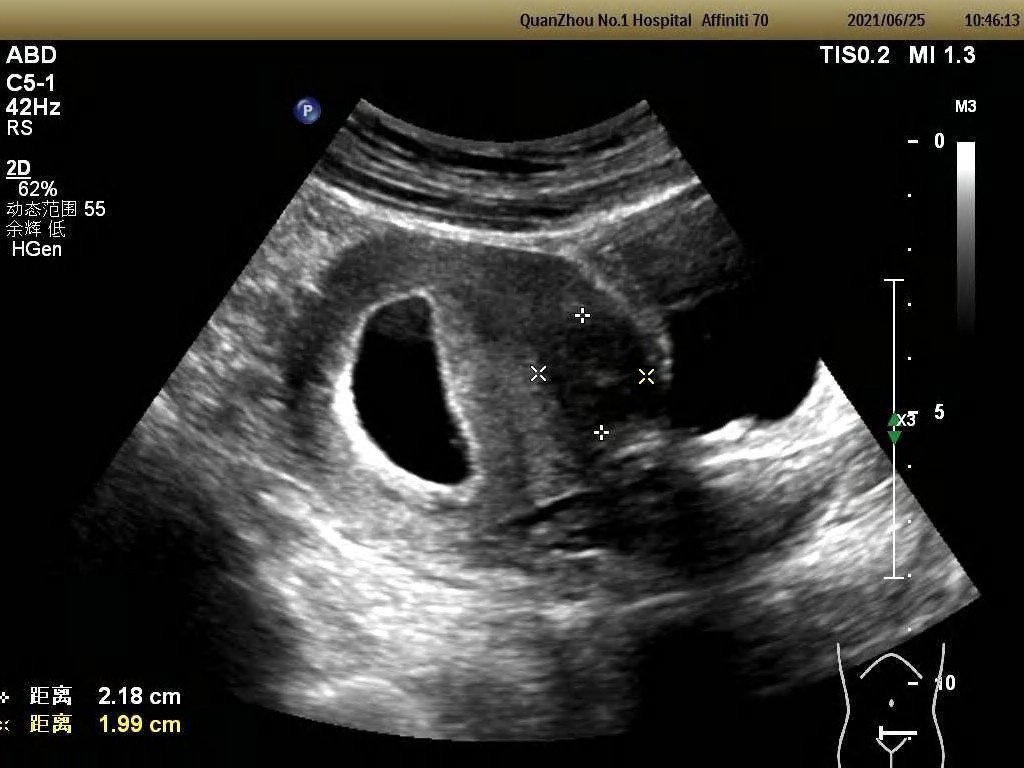肌瘤: (540, 316, 648, 435)
